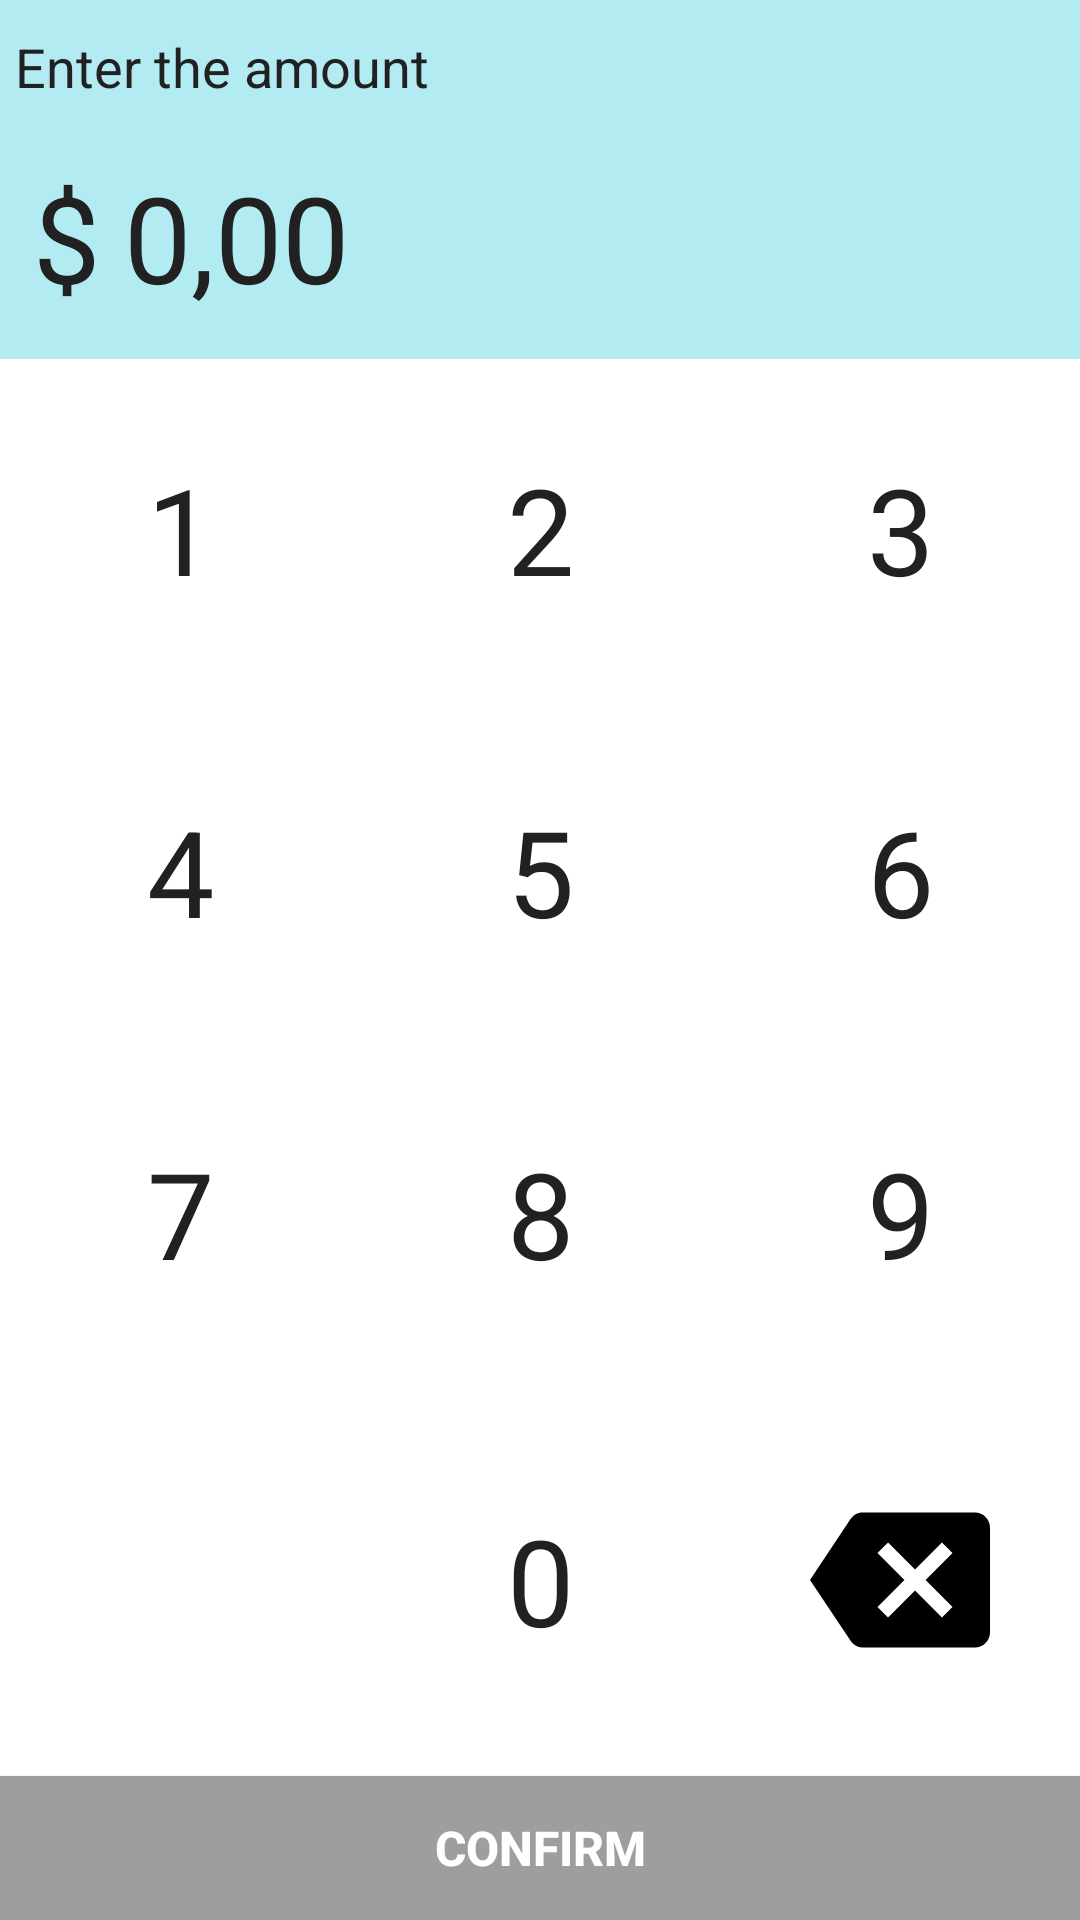

Where to tap for icons on this 1080px x 1920px app screen, as (x,y):
Backspace: (900,1580)
